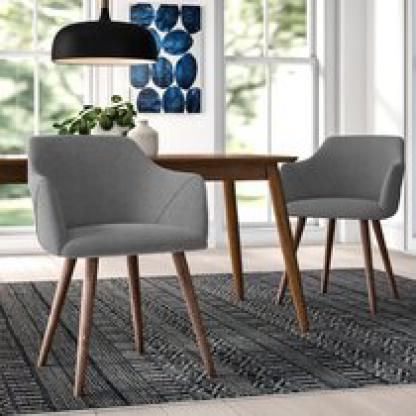chair: (23, 125, 220, 398), (274, 128, 406, 314)
light: (49, 0, 167, 81)
table: (147, 127, 307, 361)
